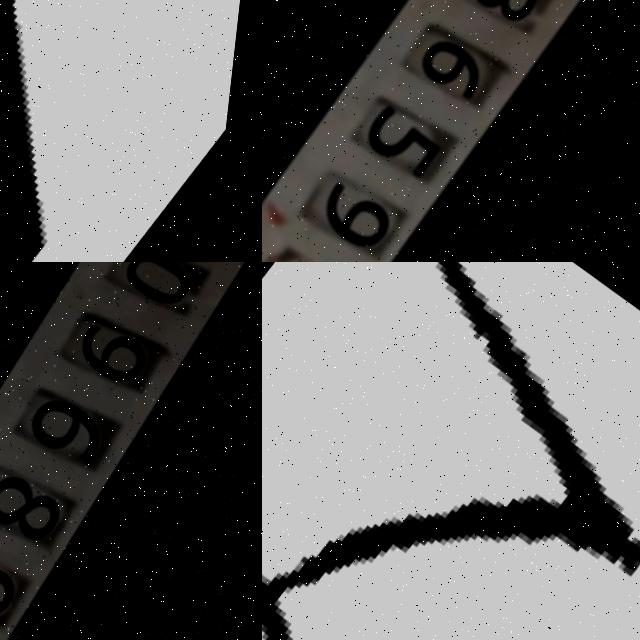0: (105, 262, 223, 322)
3: (455, 0, 568, 37)
4: (262, 233, 379, 262)
5: (351, 83, 475, 190)
6: (9, 368, 141, 483), (406, 13, 519, 112)
8: (0, 447, 98, 561)
9: (61, 298, 181, 402), (305, 160, 425, 262), (0, 525, 55, 638)
N: (262, 262, 640, 640)
